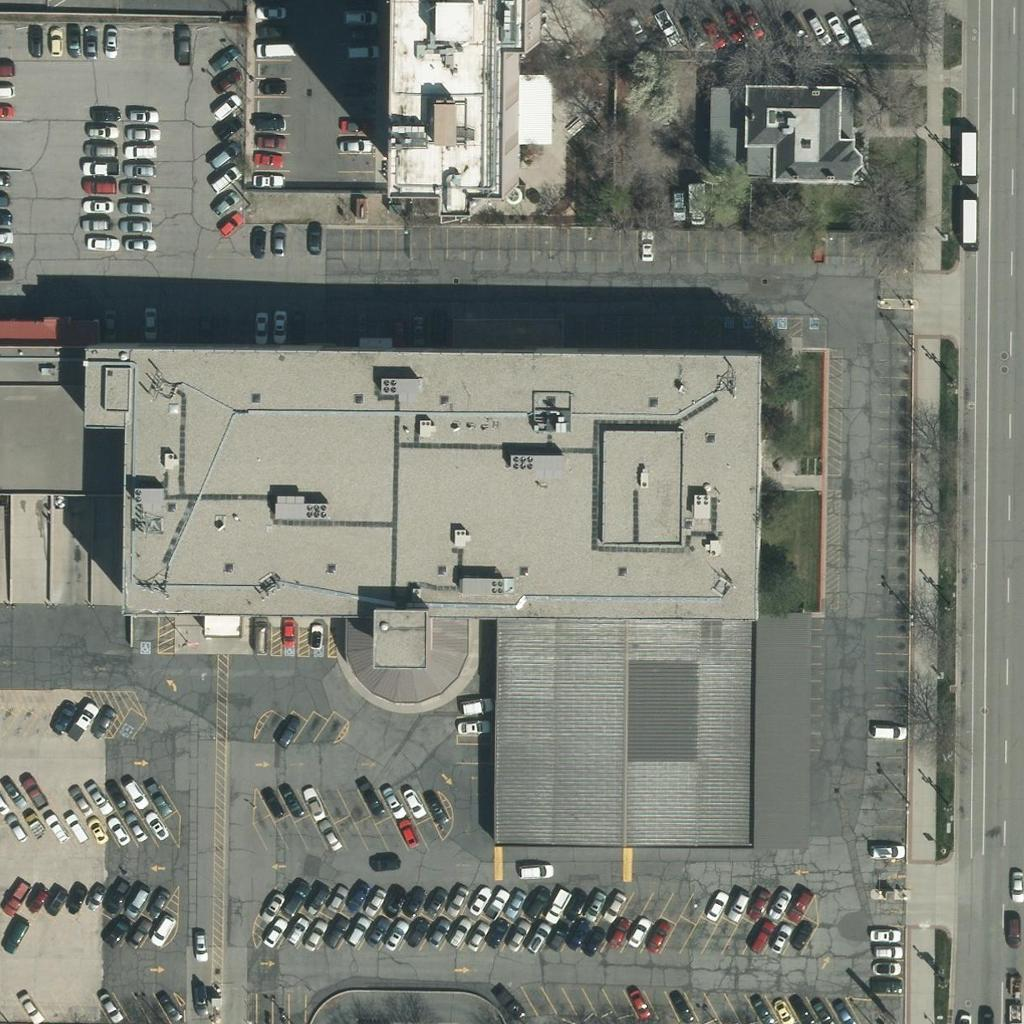car: (735, 3, 769, 37), (617, 10, 651, 44), (716, 10, 750, 44), (779, 10, 813, 44), (652, 11, 686, 45), (799, 12, 833, 46), (821, 13, 855, 47), (841, 13, 875, 47), (254, 15, 288, 49), (675, 15, 709, 49), (693, 16, 727, 50), (342, 17, 376, 51), (93, 23, 127, 57), (19, 24, 53, 58), (57, 24, 91, 58), (38, 25, 72, 59), (166, 25, 200, 59), (71, 27, 105, 61), (345, 33, 379, 67), (208, 40, 242, 74), (209, 64, 243, 98), (253, 67, 287, 101), (209, 90, 243, 124), (121, 97, 155, 131), (122, 97, 156, 131), (86, 98, 120, 132), (244, 105, 278, 139), (337, 108, 371, 142), (212, 111, 246, 145), (84, 114, 118, 148), (123, 116, 157, 150), (251, 123, 285, 157), (337, 126, 371, 160), (81, 133, 115, 167), (121, 133, 155, 167), (207, 138, 241, 172), (246, 140, 280, 174), (81, 151, 115, 185), (121, 153, 155, 187), (210, 162, 244, 196), (248, 162, 282, 196), (82, 167, 116, 201), (116, 171, 150, 205), (206, 186, 240, 220), (661, 187, 695, 221), (81, 189, 115, 223), (116, 190, 150, 224), (78, 207, 112, 241), (211, 207, 245, 241), (118, 209, 152, 243), (296, 221, 330, 255), (240, 224, 274, 258), (261, 224, 295, 258), (84, 225, 118, 259), (123, 227, 157, 261), (629, 231, 663, 265), (133, 305, 167, 339), (92, 307, 126, 341), (188, 307, 222, 341), (244, 308, 278, 342), (281, 308, 315, 342), (261, 310, 295, 344), (384, 313, 418, 347), (400, 313, 434, 347), (423, 313, 457, 347), (271, 614, 305, 648), (241, 616, 275, 650), (300, 617, 334, 651), (458, 691, 492, 725), (47, 700, 81, 734), (66, 700, 100, 734), (89, 701, 123, 735), (453, 709, 487, 743), (271, 713, 305, 747), (870, 714, 904, 748), (97, 775, 131, 809), (350, 776, 384, 810), (17, 777, 51, 811), (119, 779, 153, 813), (80, 780, 114, 814), (141, 780, 175, 814), (274, 782, 308, 816), (375, 784, 409, 818), (396, 785, 430, 819), (64, 786, 98, 820), (256, 786, 290, 820), (297, 786, 331, 820), (417, 788, 451, 822), (16, 802, 50, 836), (139, 808, 173, 842), (39, 810, 73, 844), (59, 812, 93, 846), (119, 812, 153, 846), (78, 813, 112, 847), (101, 813, 135, 847), (313, 817, 347, 851), (390, 818, 424, 852), (868, 834, 902, 868), (369, 844, 403, 878), (516, 854, 550, 888), (101, 878, 135, 912), (339, 880, 373, 914), (279, 881, 313, 915), (22, 882, 56, 916), (59, 882, 93, 916), (79, 882, 113, 916), (301, 882, 335, 916), (317, 882, 351, 916), (441, 883, 475, 917), (121, 884, 155, 918), (357, 884, 391, 918), (40, 885, 74, 919), (398, 885, 432, 919), (418, 885, 452, 919), (480, 885, 514, 919), (761, 885, 795, 919), (498, 886, 532, 920), (519, 886, 553, 920), (140, 887, 174, 921), (460, 887, 494, 921), (741, 887, 775, 921), (784, 887, 818, 921), (378, 888, 412, 922), (558, 888, 592, 922), (575, 888, 609, 922), (597, 888, 631, 922), (699, 888, 733, 922), (721, 888, 755, 922), (253, 890, 287, 924), (541, 892, 575, 926), (338, 914, 372, 948), (566, 914, 600, 948), (600, 914, 634, 948), (98, 915, 132, 949), (142, 915, 176, 949), (254, 915, 288, 949), (276, 915, 310, 949), (362, 915, 396, 949), (377, 915, 411, 949), (400, 915, 434, 949), (480, 915, 514, 949), (622, 915, 656, 949), (120, 916, 154, 950), (442, 916, 476, 950), (785, 916, 819, 950), (298, 917, 332, 951), (320, 917, 354, 951), (421, 917, 455, 951), (499, 917, 533, 951), (868, 917, 902, 951), (539, 919, 573, 953), (640, 919, 674, 953), (743, 919, 777, 953), (763, 919, 797, 953), (519, 920, 553, 954), (458, 921, 492, 955), (182, 925, 216, 959), (576, 927, 610, 961), (868, 936, 902, 970), (870, 949, 904, 983), (869, 972, 903, 1006), (182, 984, 216, 1018), (622, 986, 656, 1020), (90, 989, 124, 1023), (492, 990, 526, 1024), (664, 990, 698, 1024), (0, 883, 33, 917), (12, 991, 46, 1024), (152, 991, 186, 1024), (344, 0, 378, 32), (0, 809, 32, 843), (0, 920, 32, 954), (783, 993, 817, 1024), (0, 774, 30, 808), (747, 994, 781, 1024), (256, 0, 290, 28), (767, 996, 801, 1024), (804, 996, 838, 1024), (805, 996, 839, 1024), (825, 996, 859, 1024), (997, 912, 1024, 946), (998, 868, 1024, 902), (0, 238, 18, 272)
